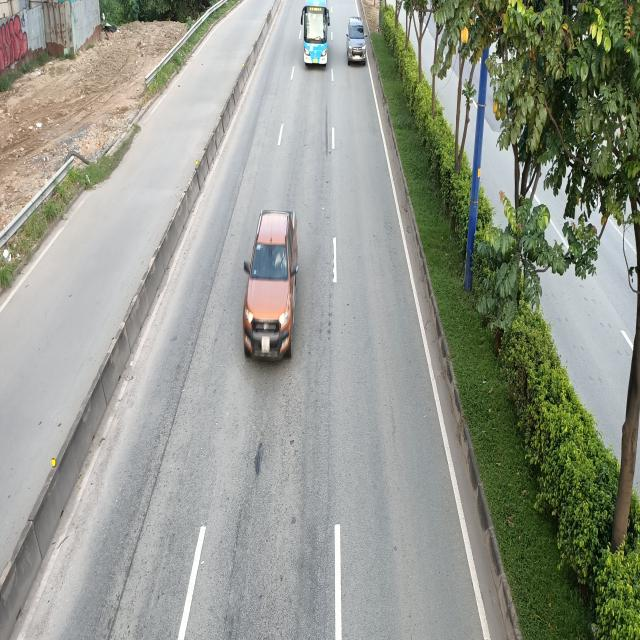car: (244, 213, 300, 362), (346, 14, 368, 64)
coach: (299, 0, 329, 67)
